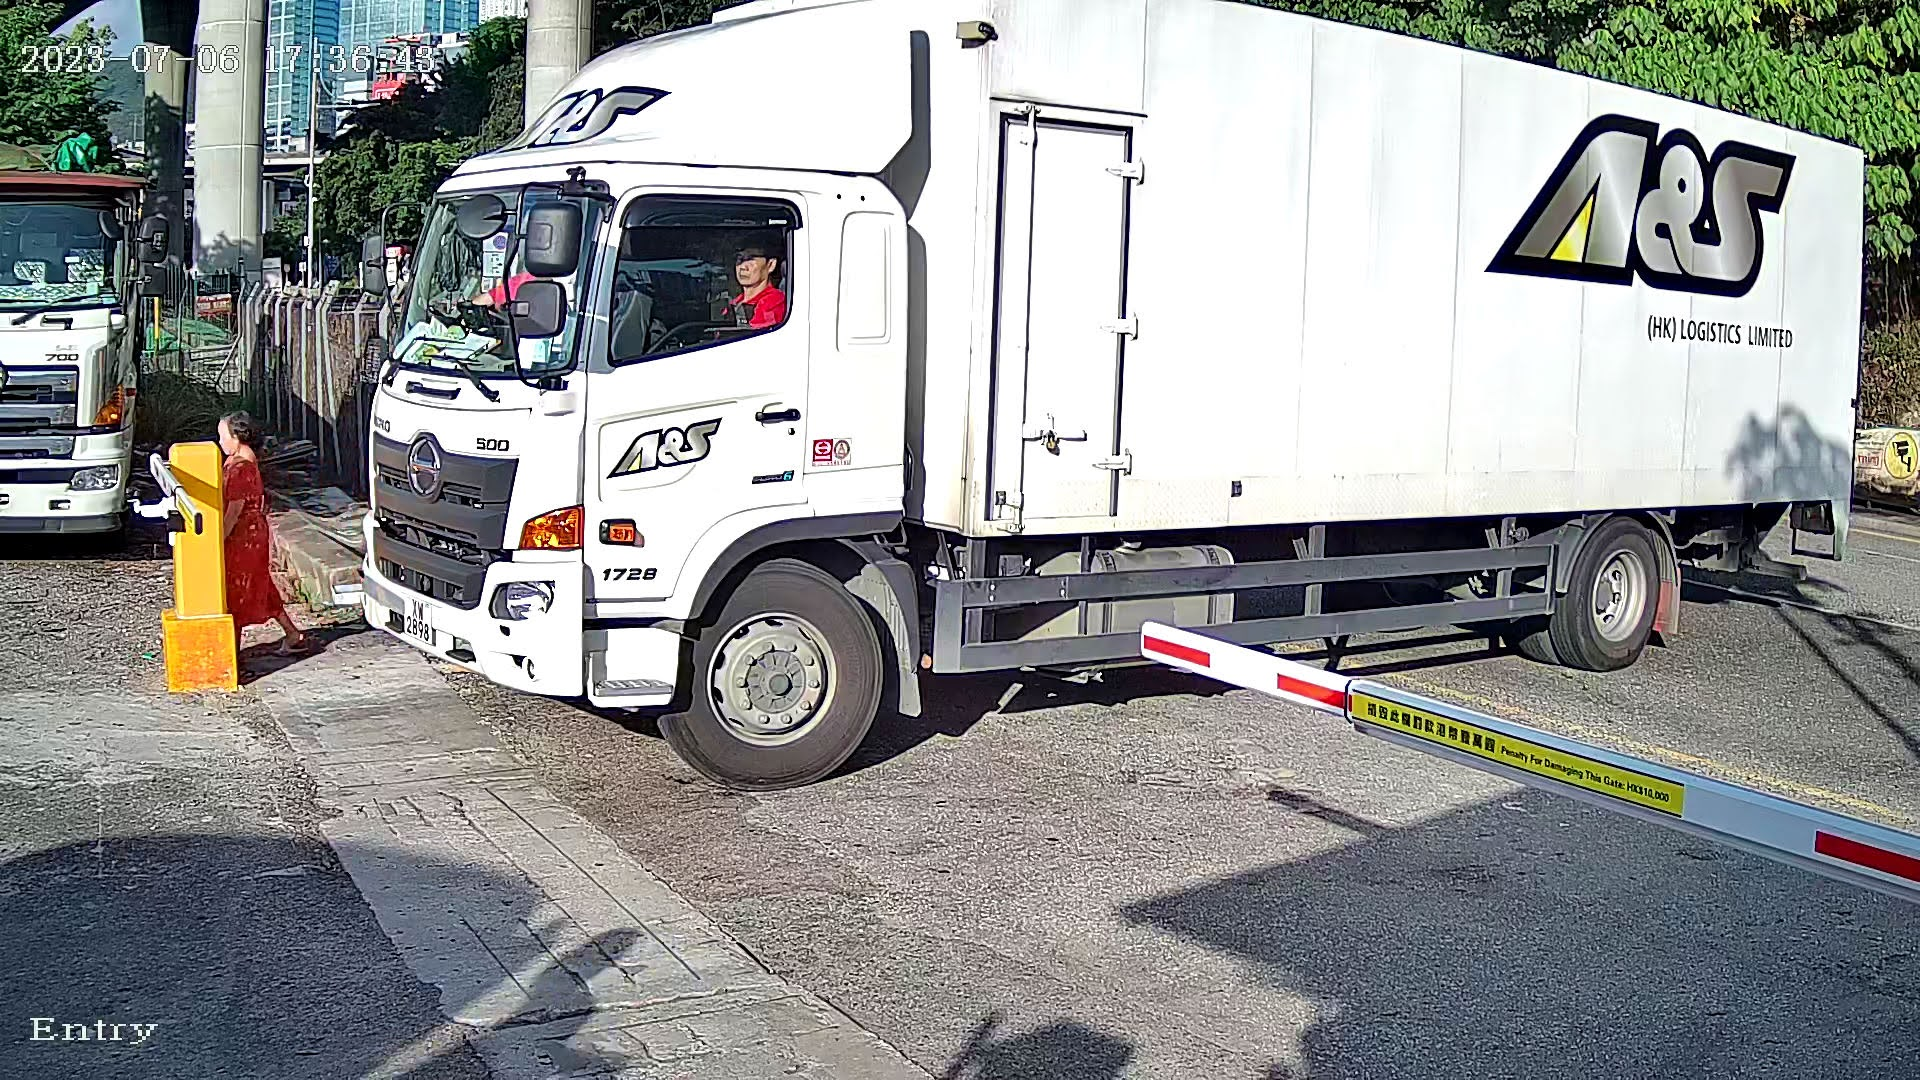truck: (342, 1, 1912, 802)
